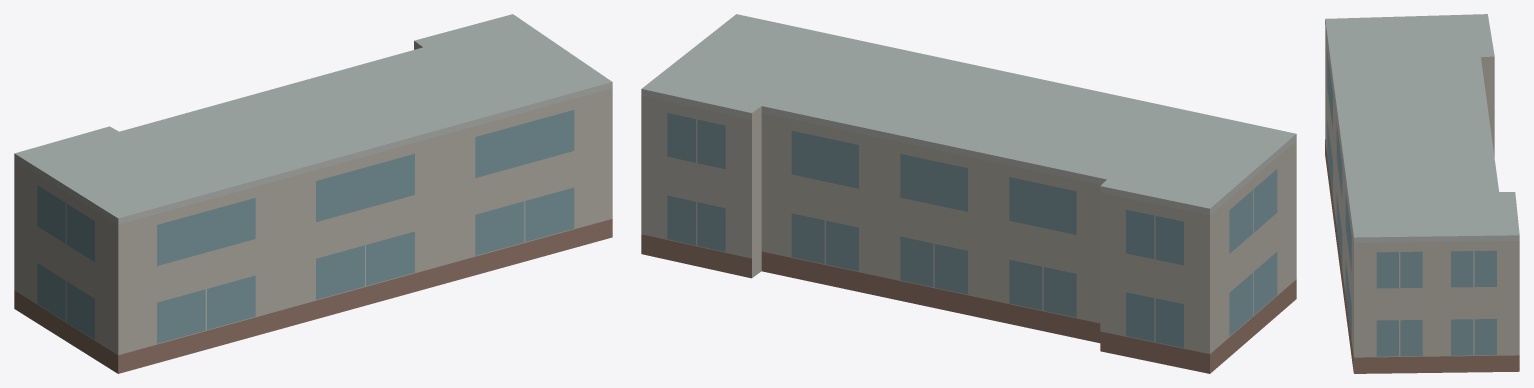
File: survey-upis-32586020.glb
3 views of the same model, side by side, from view 1: azimuth 30°, elevation 25°; view 2: azimuth 150°, elevation 25°; view 3: azimuth 270°, elevation 25° (orthographic). The views are drawn at different scales.
Parts seen in each view (by area): view 1: survey-upis-32586020.tmp; view 2: survey-upis-32586020.tmp; view 3: survey-upis-32586020.tmp.
Boxes of the visible parts, left/top/right/bottom form: survey-upis-32586020.tmp: left=14, top=14, right=612, bottom=373; survey-upis-32586020.tmp: left=641, top=14, right=1296, bottom=373; survey-upis-32586020.tmp: left=1325, top=14, right=1519, bottom=373.
Size of the model in its own units: 21.44 by 6.1 by 7.89.
